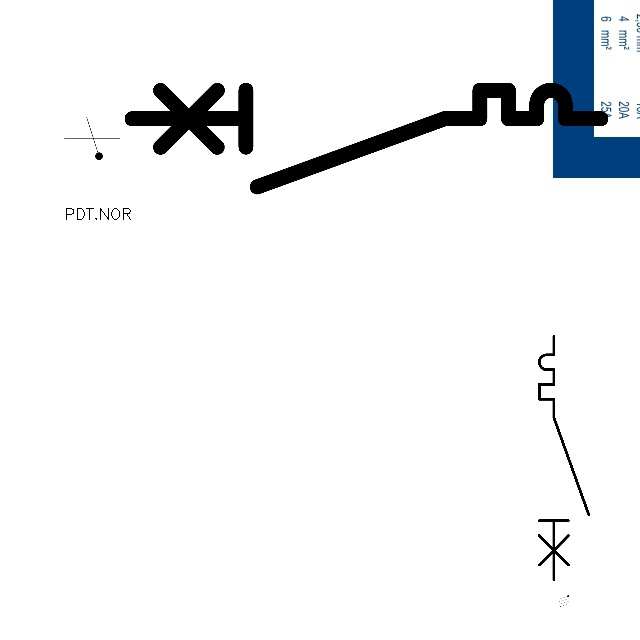interruptor_termomagnetico: (119, 78, 612, 198), (533, 330, 595, 586)
